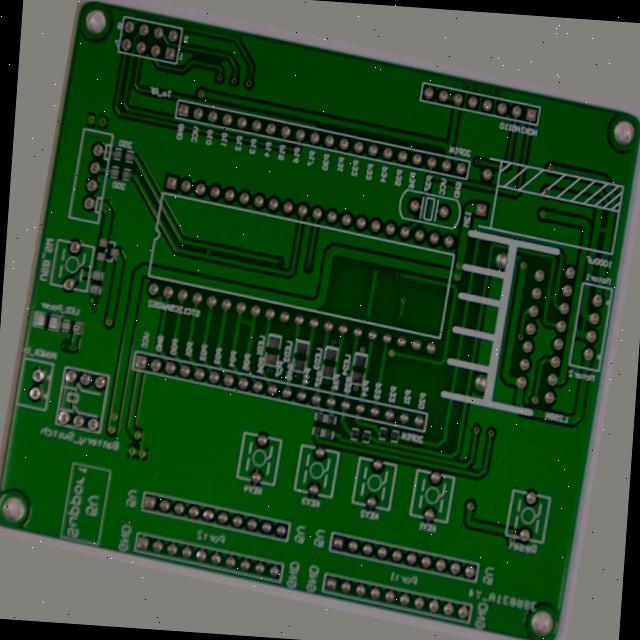short: (223, 316, 255, 349), (603, 153, 629, 180), (594, 265, 617, 294), (179, 248, 199, 273), (559, 242, 575, 264)
